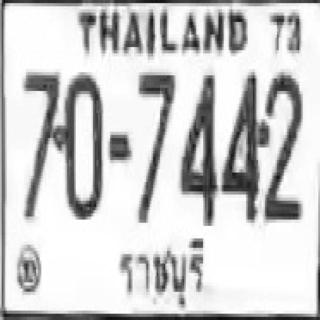N00: (60, 69, 101, 216)
N02: (262, 69, 301, 216)
N04: (220, 69, 260, 220), (178, 69, 216, 223)
N07: (136, 69, 174, 220), (21, 69, 58, 216)
P52: (111, 238, 207, 317)
